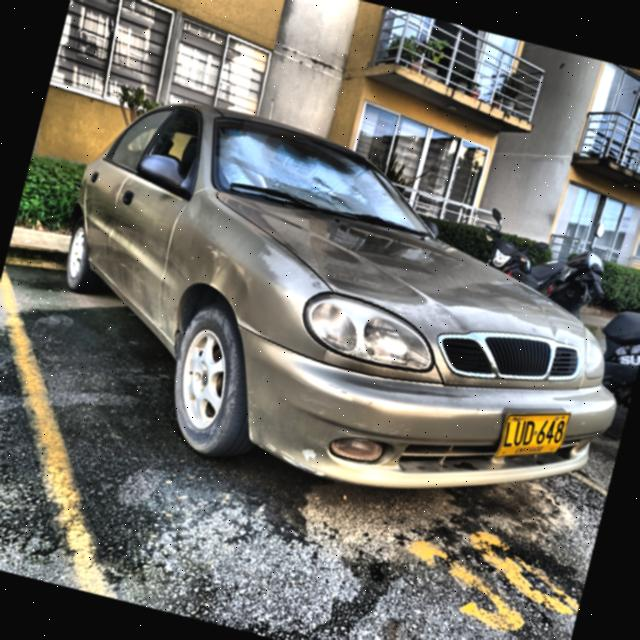4: (543, 420, 556, 444)
6: (534, 419, 550, 445)
8: (552, 420, 566, 445)
D: (521, 420, 535, 446)
L: (501, 420, 515, 448)
U: (513, 420, 526, 446)
